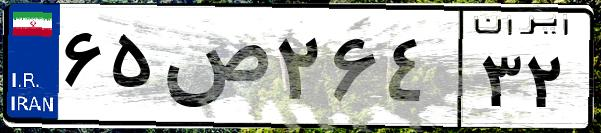2: (270, 28, 330, 110), (525, 38, 570, 115)
3: (475, 38, 525, 113)
4: (385, 28, 445, 110)
5: (110, 28, 158, 98)
6: (330, 28, 385, 110), (57, 26, 110, 100)
ص: (158, 20, 270, 120)
